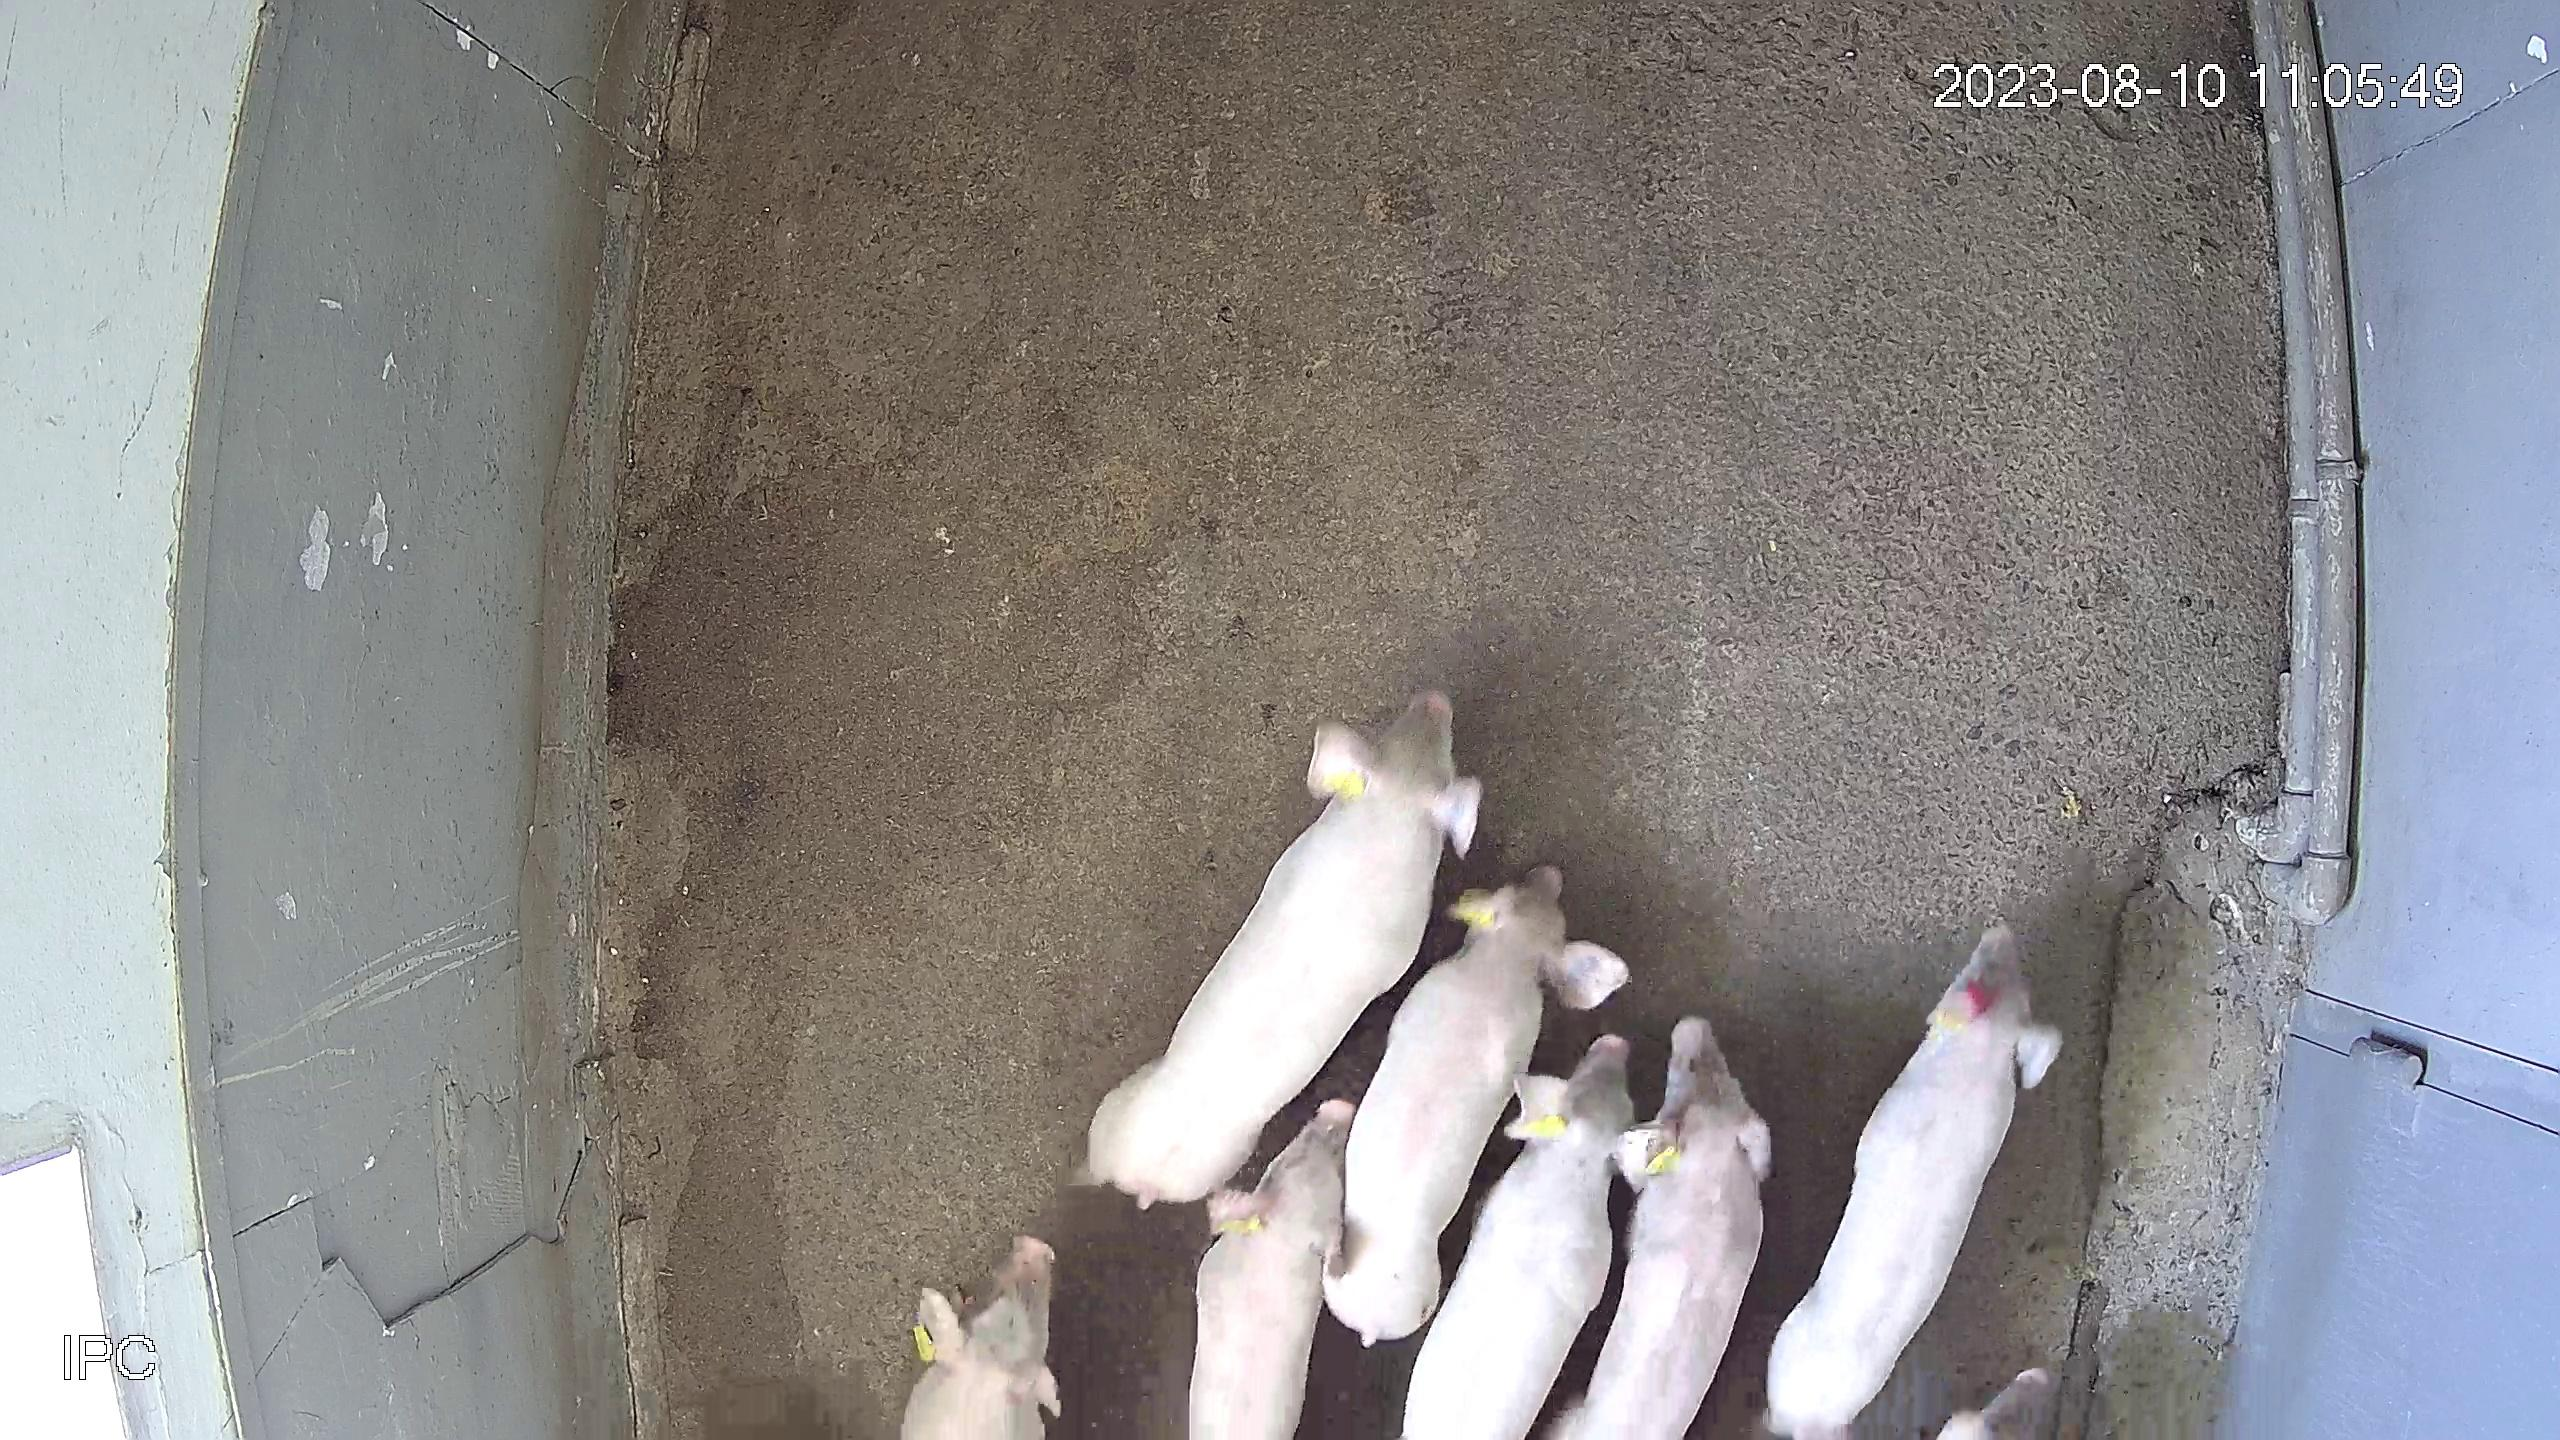Pig: (1080, 689, 1482, 1208), (1771, 925, 2064, 1440), (1326, 867, 1630, 1345), (1405, 1034, 1635, 1440), (1561, 1016, 1772, 1440), (1189, 1099, 1356, 1440), (900, 1236, 1060, 1440)
